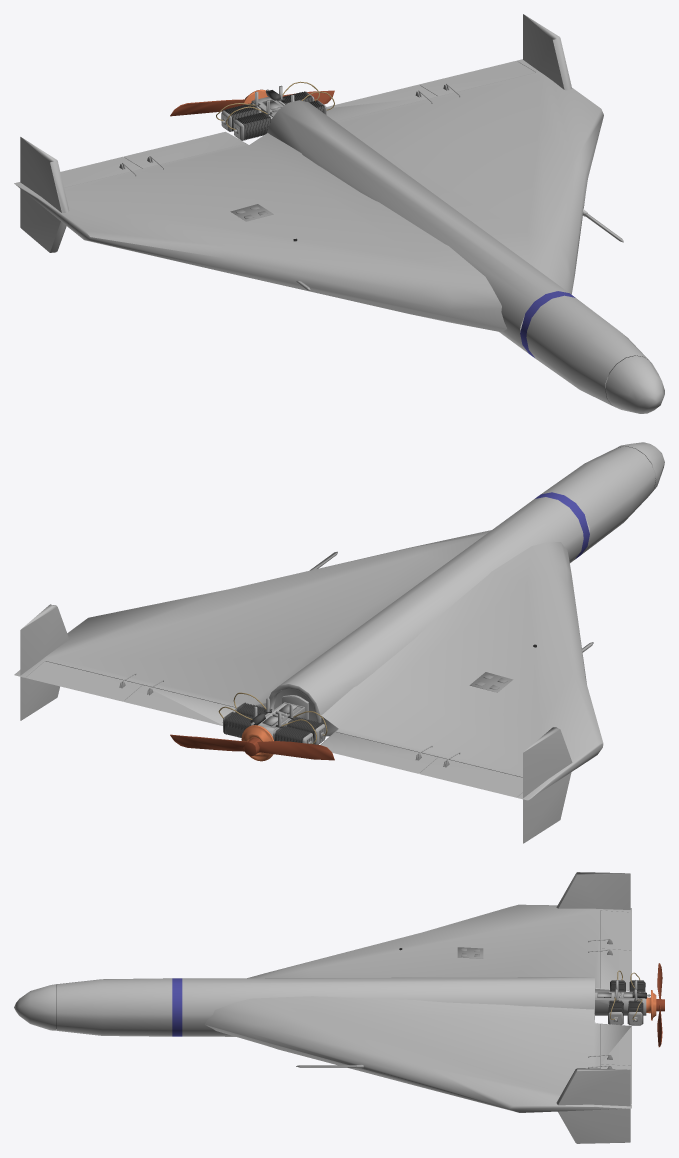
File: shahed.glb
3 views of the same model, one above another, from view 1: azimuth 30°, elevation 25°; view 2: azimuth 150°, elevation 25°; view 3: azimuth 270°, elevation 25° (orthographic). The views are drawn at different scales.
Visible parts, largest first — view 1: Utama, Mesin, Baling baling, Komponen; view 2: Utama, Mesin, Baling baling, Komponen; view 3: Utama, Mesin, Komponen, Baling baling.
Boxes of the visible parts, x1=… form: Utama: x1=14, y1=14, x2=664, y2=413; Mesin: x1=216, y1=81, x2=334, y2=140; Baling baling: x1=170, y1=89, x2=334, y2=116; Komponen: x1=119, y1=83, x2=623, y2=290; Utama: x1=14, y1=442, x2=664, y2=843; Mesin: x1=218, y1=692, x2=327, y2=744; Baling baling: x1=170, y1=725, x2=334, y2=761; Komponen: x1=119, y1=551, x2=593, y2=767; Utama: x1=14, y1=872, x2=631, y2=1143; Mesin: x1=595, y1=970, x2=650, y2=1025; Komponen: x1=296, y1=939, x2=612, y2=1068; Baling baling: x1=646, y1=963, x2=664, y2=1047.
Size of the model in its own units: 1.76 by 0.3022 by 2.41.
